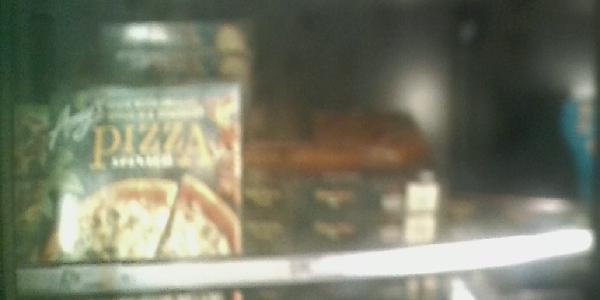pizza1: (10, 88, 241, 267)
pizza2: (241, 162, 436, 217), (240, 219, 435, 249), (96, 20, 250, 51), (99, 51, 249, 80)
